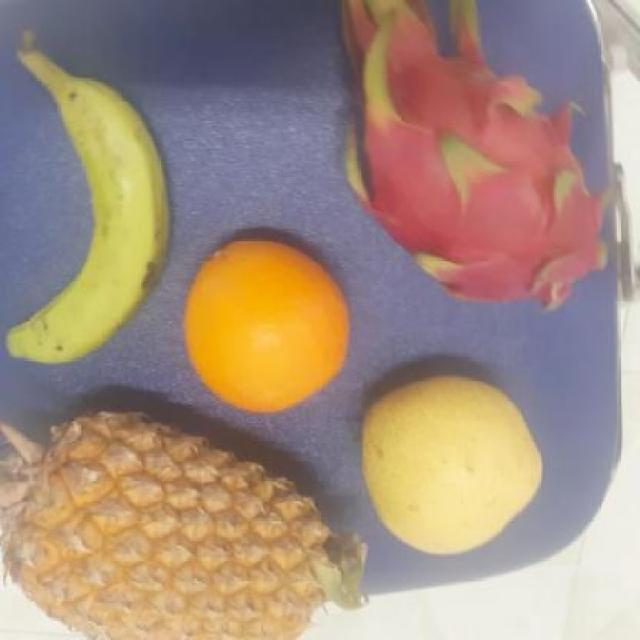banana: (7, 75, 175, 363)
dragon fruit: (332, 8, 614, 304)
guava: (360, 375, 548, 550), (179, 231, 359, 412)
pear: (181, 238, 356, 410)
pineapple: (0, 399, 352, 639)
